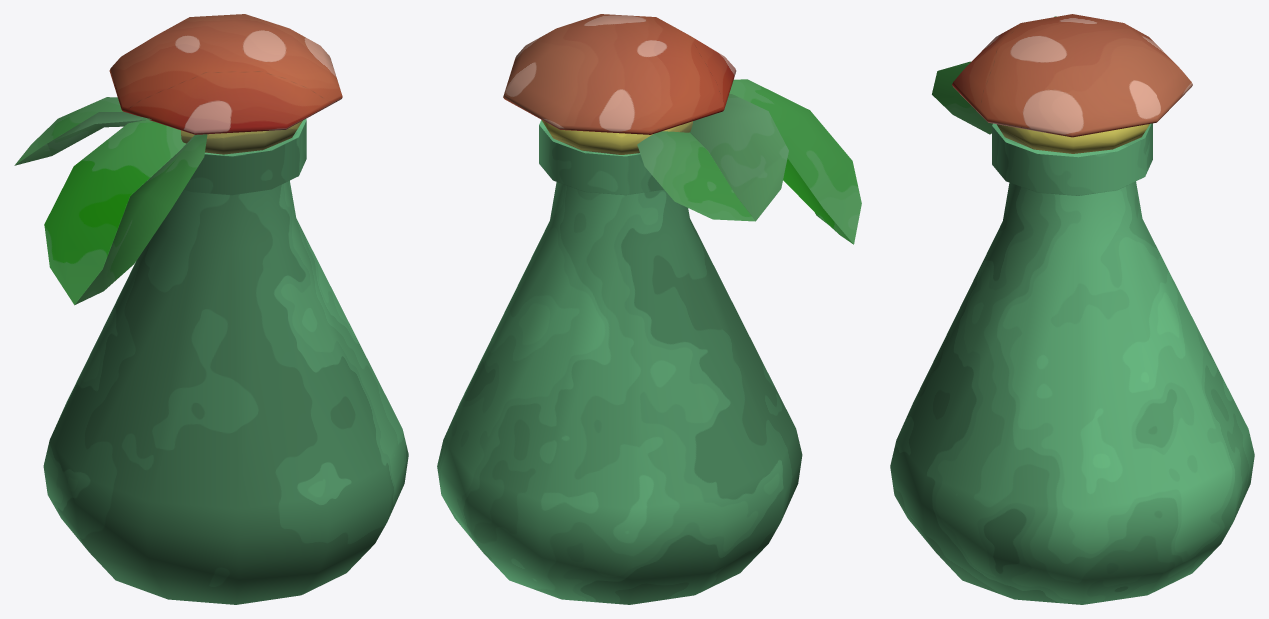
File: GreenPotion.fbx
The picture shows the model from 3 angles, left to right: view 1: azimuth 30°, elevation 25°; view 2: azimuth 150°, elevation 25°; view 3: azimuth 270°, elevation 25°; orthographic projection.
Visible parts, largest first — view 1: GreenPotion, GreenPotionLid; view 2: GreenPotion, GreenPotionLid; view 3: GreenPotion, GreenPotionLid.
Part boxes in pixels (box(x1,y1,x2,y2)): GreenPotion: box(43, 119, 408, 604); GreenPotionLid: box(14, 14, 342, 305); GreenPotion: box(437, 120, 802, 604); GreenPotionLid: box(503, 14, 861, 244); GreenPotion: box(890, 123, 1254, 604); GreenPotionLid: box(932, 14, 1192, 153).
Size of the model in its own units: 0.1724 by 0.238 by 0.153.
1 material, 1 textured.
